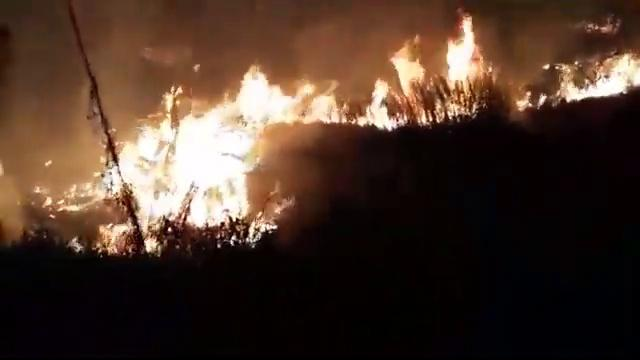fire: (131, 126, 247, 219), (235, 73, 292, 123), (451, 27, 475, 84)
